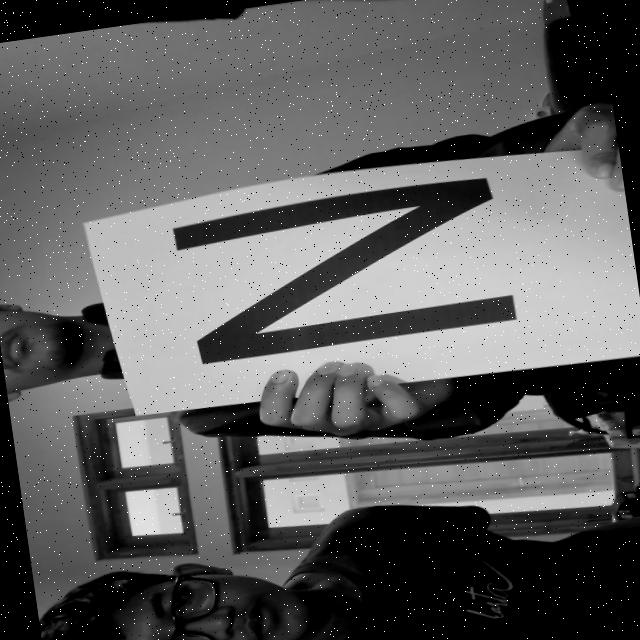n: (153, 152, 554, 378)
